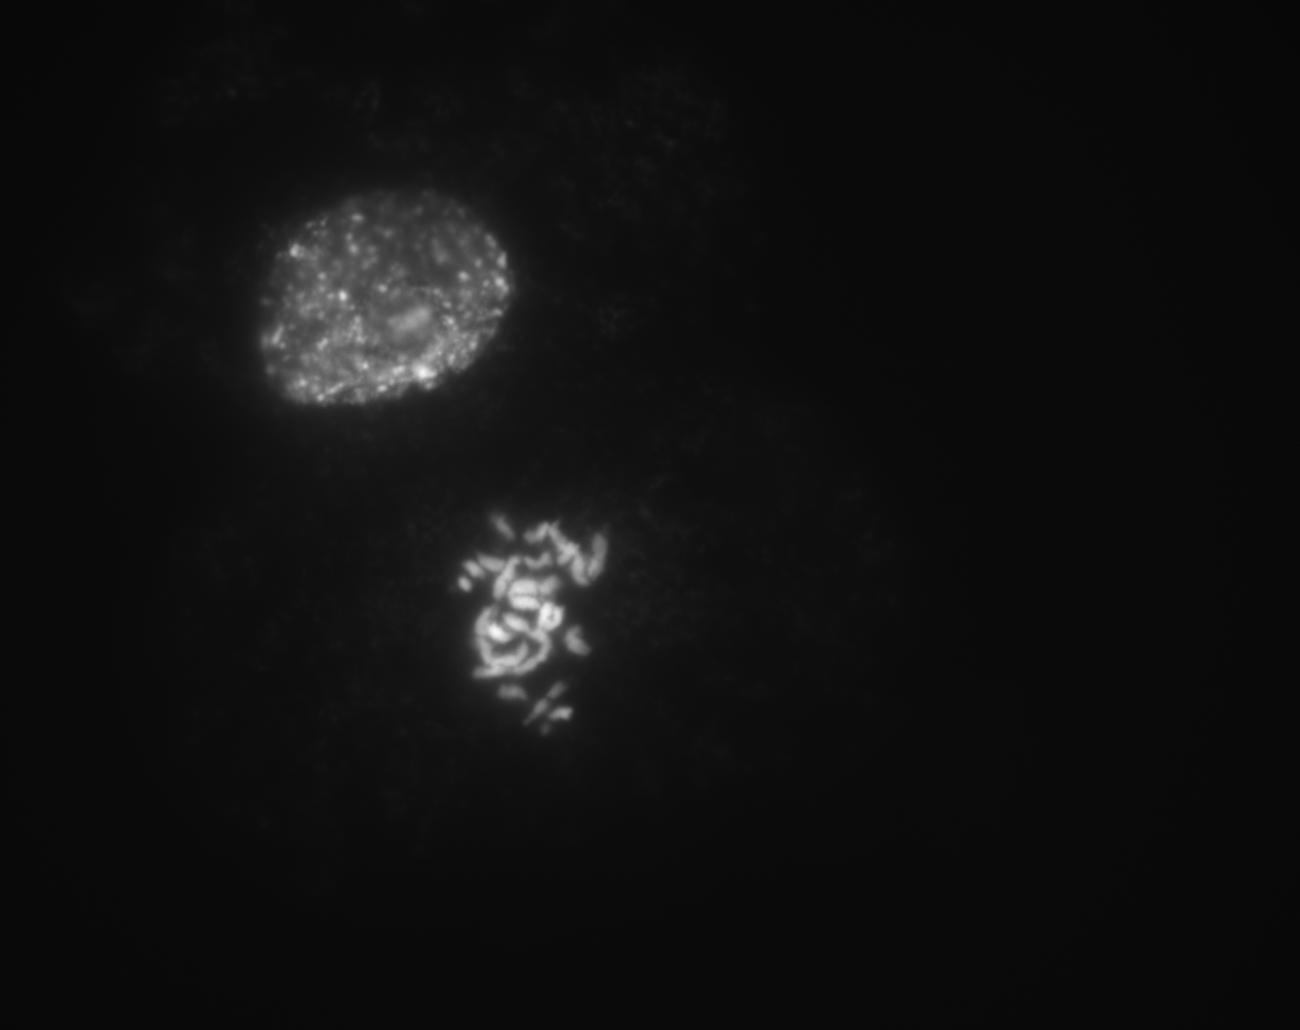Chromosomes: (406, 483, 642, 742)
Others: (213, 148, 561, 443)
